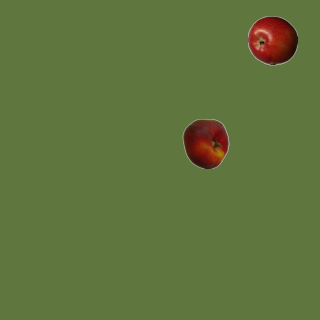Apple Braeburn: (247, 15, 297, 65)
Nectarine Flat: (180, 118, 230, 168)
